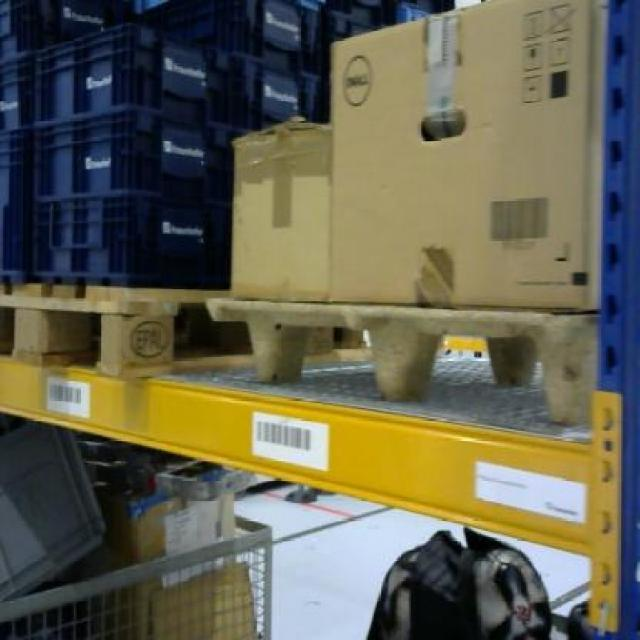box: (332, 5, 600, 313), (220, 118, 334, 300)
